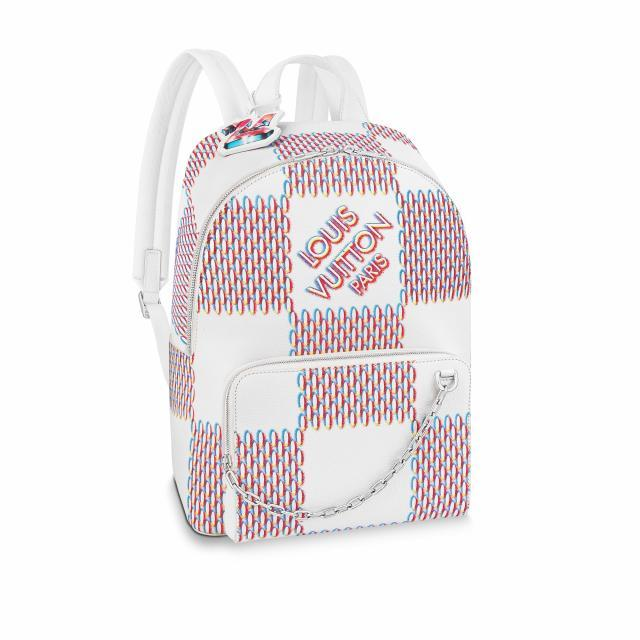Backpacks: (156, 110, 480, 550)
